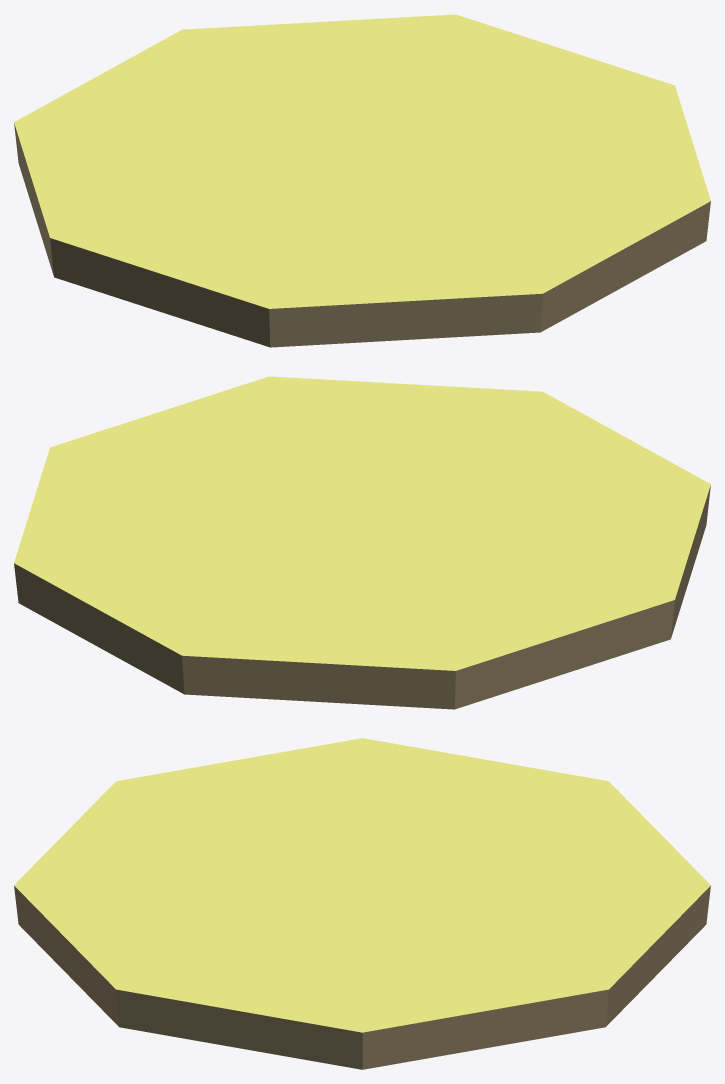
The model's file is Rock_Shelf3.fbx.
3 views of the same model, one above another, from view 1: azimuth 30°, elevation 25°; view 2: azimuth 150°, elevation 25°; view 3: azimuth 270°, elevation 25° (orthographic). The views are drawn at different scales.
Visible parts, largest first — view 1: Rock_Shelf3; view 2: Rock_Shelf3; view 3: Rock_Shelf3.
Part boxes in pixels (box(x1,y1,x2,y2)): Rock_Shelf3: box(14, 14, 710, 347); Rock_Shelf3: box(14, 376, 710, 709); Rock_Shelf3: box(14, 738, 710, 1069).
Size of what is drawn, in the model's own units: 4059 by 251 by 4059.
